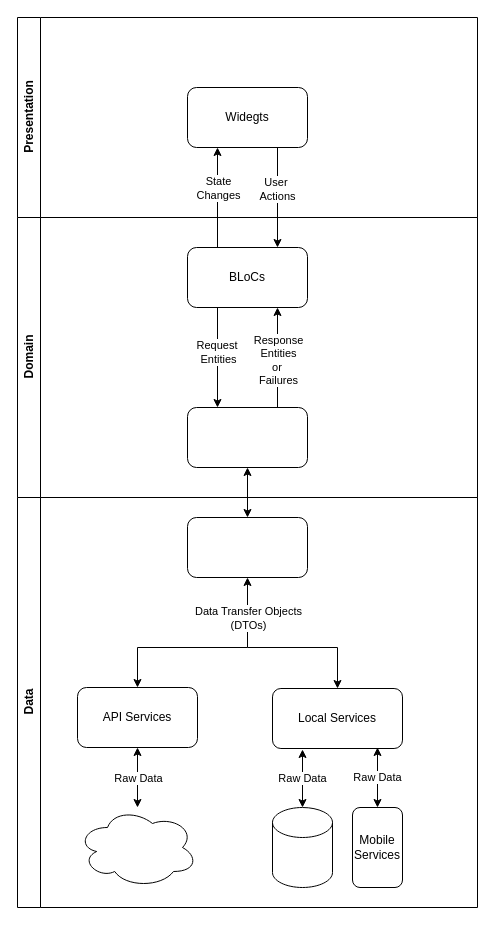
Some shapes in this 495 by 925 pixel diagram are drawn without their labels. The shapes that lost their labels are listed below. From the top down, each one's centre as x and y in pixels, then its label:
At point 247,437: "Interfaces".
At point 247,547: "Repositories".
At point 137,847: "APIs".
At point 302,847: "Local Storage (DBs)".
